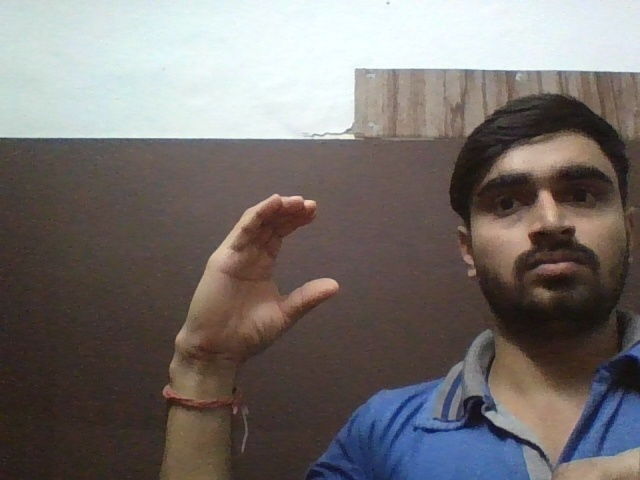C: (175, 184, 344, 355)
